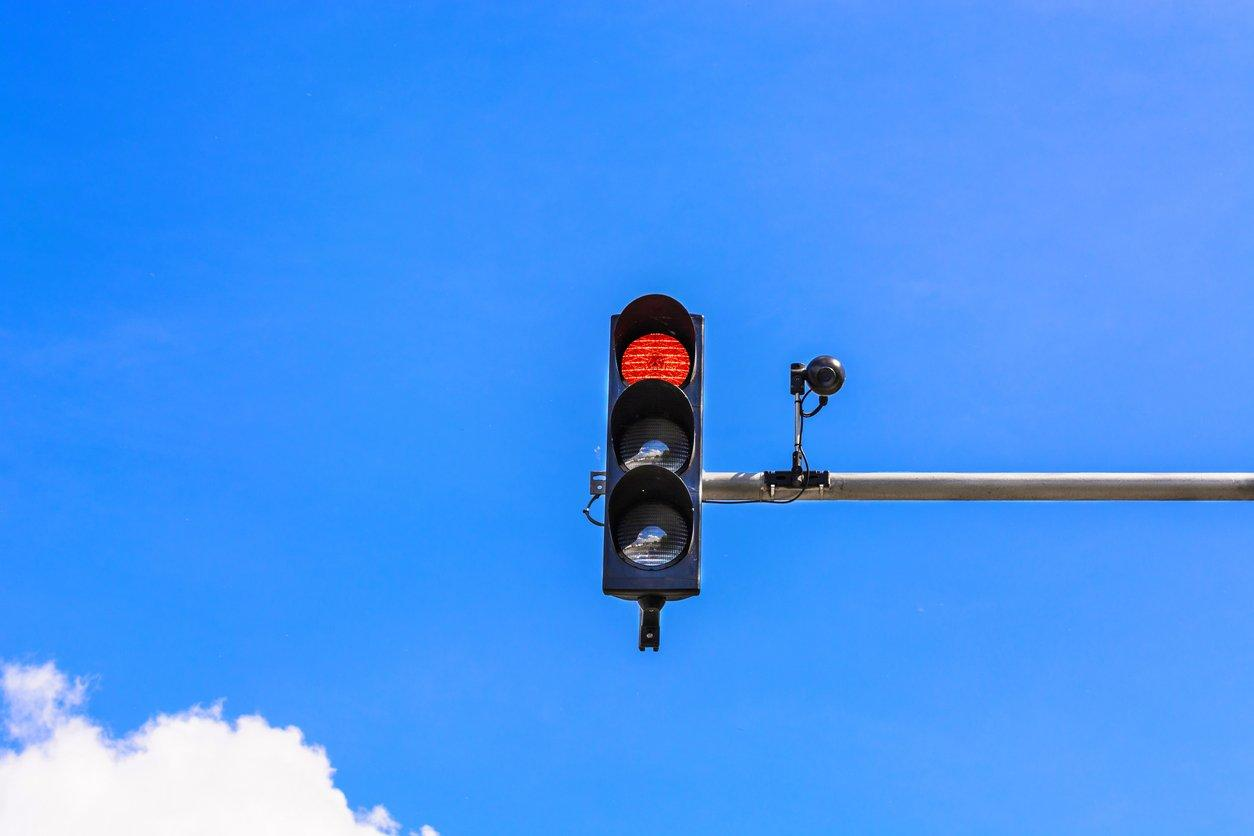red: (586, 298, 710, 612)
